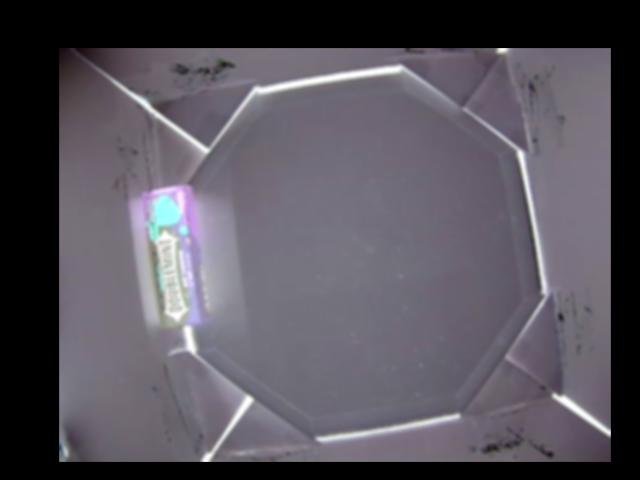Bottle: (143, 183, 210, 329)
